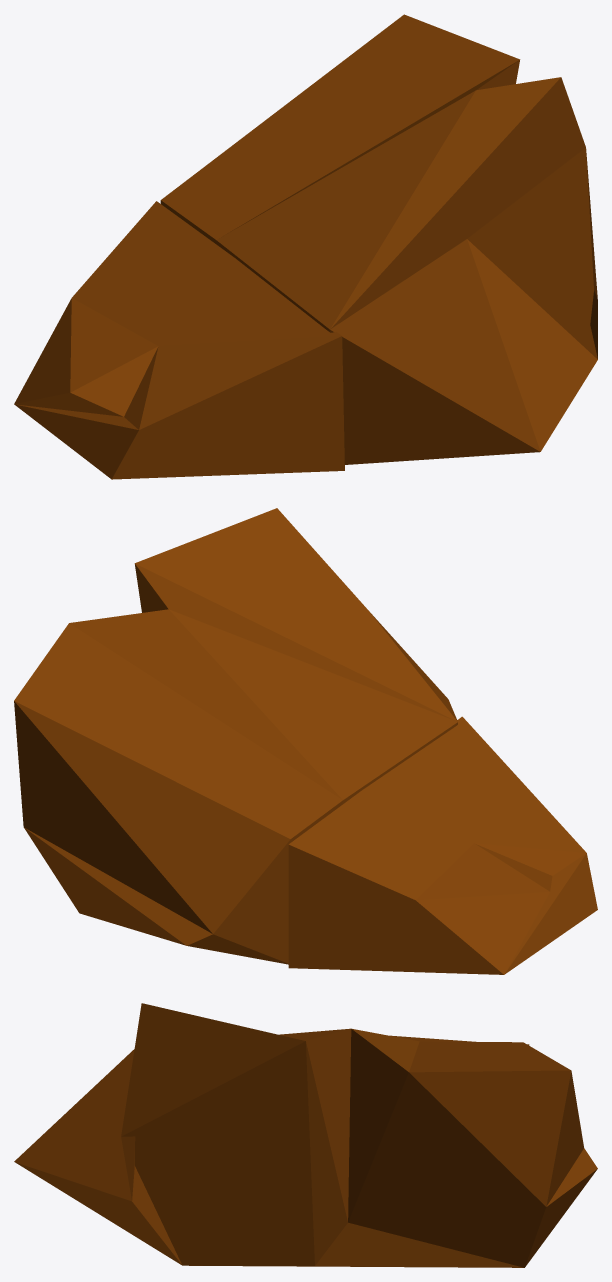
Rendered from Roca 7.fbx.
The picture shows the model from 3 angles, top to bottom: view 1: azimuth 30°, elevation 25°; view 2: azimuth 150°, elevation 25°; view 3: azimuth 270°, elevation 25°; orthographic projection. The views are drawn at different scales.
Parts seen in each view (by area): view 1: ROCA 7; view 2: ROCA 7; view 3: ROCA 7.
Part boxes in pixels (x1,y1,x2,y2): ROCA 7: (14,14,597,479); ROCA 7: (14,508,597,974); ROCA 7: (14,1003,597,1267).
Bounding box in the file's own units: 226 × 126 × 252.
